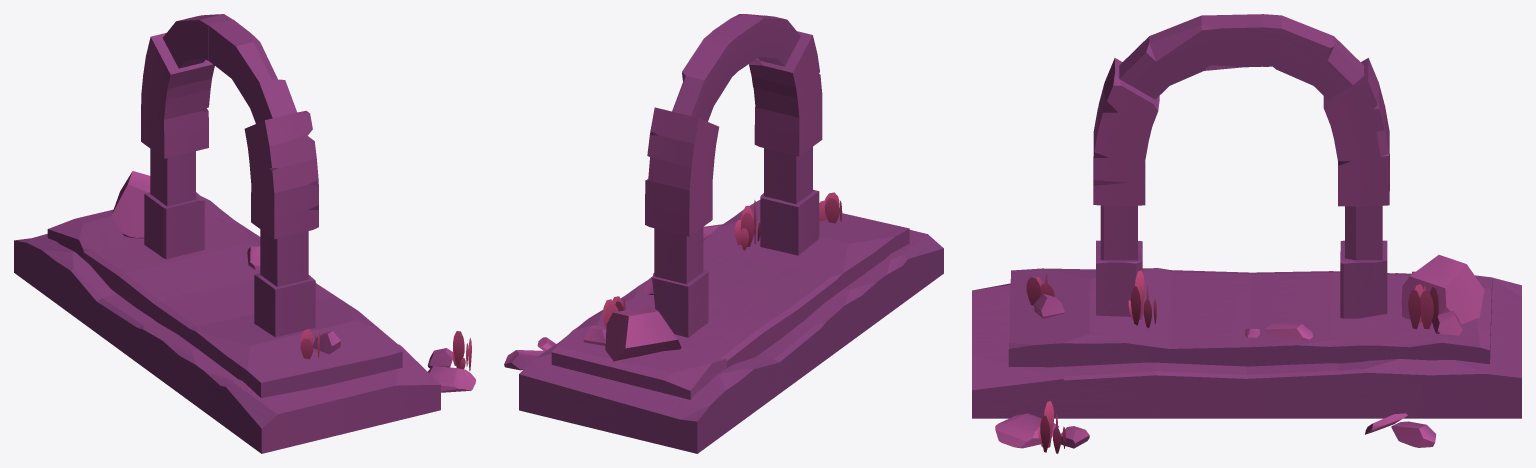
File: portal.fbx
3 views of the same model, side by side, from view 1: azimuth 30°, elevation 25°; view 2: azimuth 150°, elevation 25°; view 3: azimuth 270°, elevation 25° (orthographic). The views are drawn at different scales.
Parts seen in each view (by area): view 1: Cube; view 2: Cube; view 3: Cube.
Part boxes in pixels (bbox=[...]): Cube: bbox=[14, 14, 475, 453]; Cube: bbox=[504, 14, 943, 453]; Cube: bbox=[972, 14, 1521, 453].
Bounding box in the file's own units: 103 × 126 × 179.
5 materials, 5 textured.
